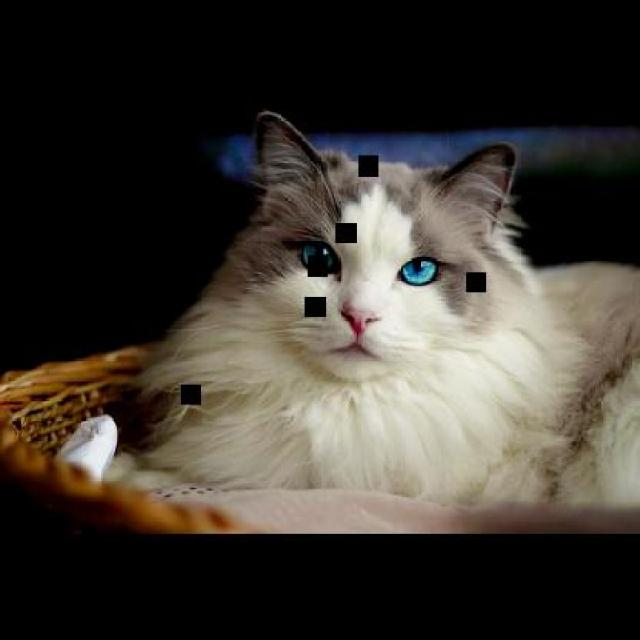unauthorized: (103, 108, 639, 510)
